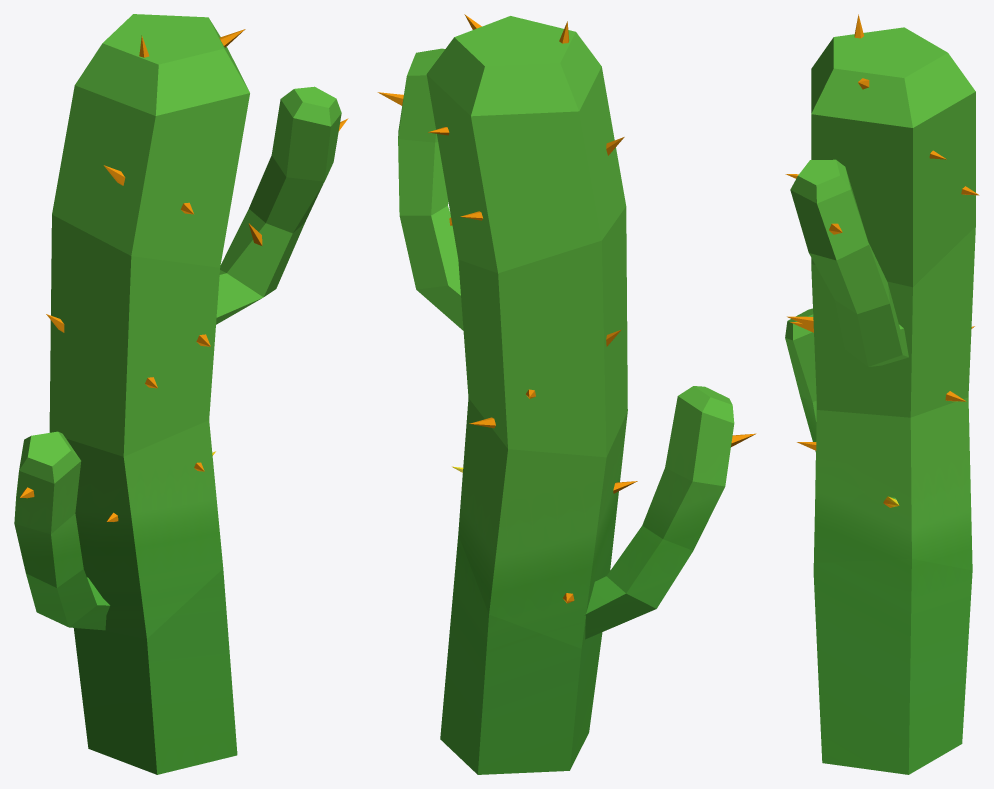
Rendered from Cactus1 (1).fbx.
The picture shows the model from 3 angles, left to right: view 1: azimuth 30°, elevation 25°; view 2: azimuth 150°, elevation 25°; view 3: azimuth 270°, elevation 25°; orthographic projection.
Parts seen in each view (by area): view 1: Cylinder, Cone; view 2: Cylinder, Cone; view 3: Cylinder, Cone.
Boxes of the visible parts, left/top/right/bottom form: Cylinder: left=14, top=14, right=341, bottom=774; Cone: left=20, top=29, right=348, bottom=521; Cylinder: left=398, top=16, right=734, bottom=774; Cone: left=377, top=14, right=756, bottom=603; Cylinder: left=785, top=27, right=975, bottom=774; Cone: left=785, top=14, right=979, bottom=507.
Bounding box in the file's own units: 442 × 863 × 214.
Materials: 2 (2 with a texture image).
